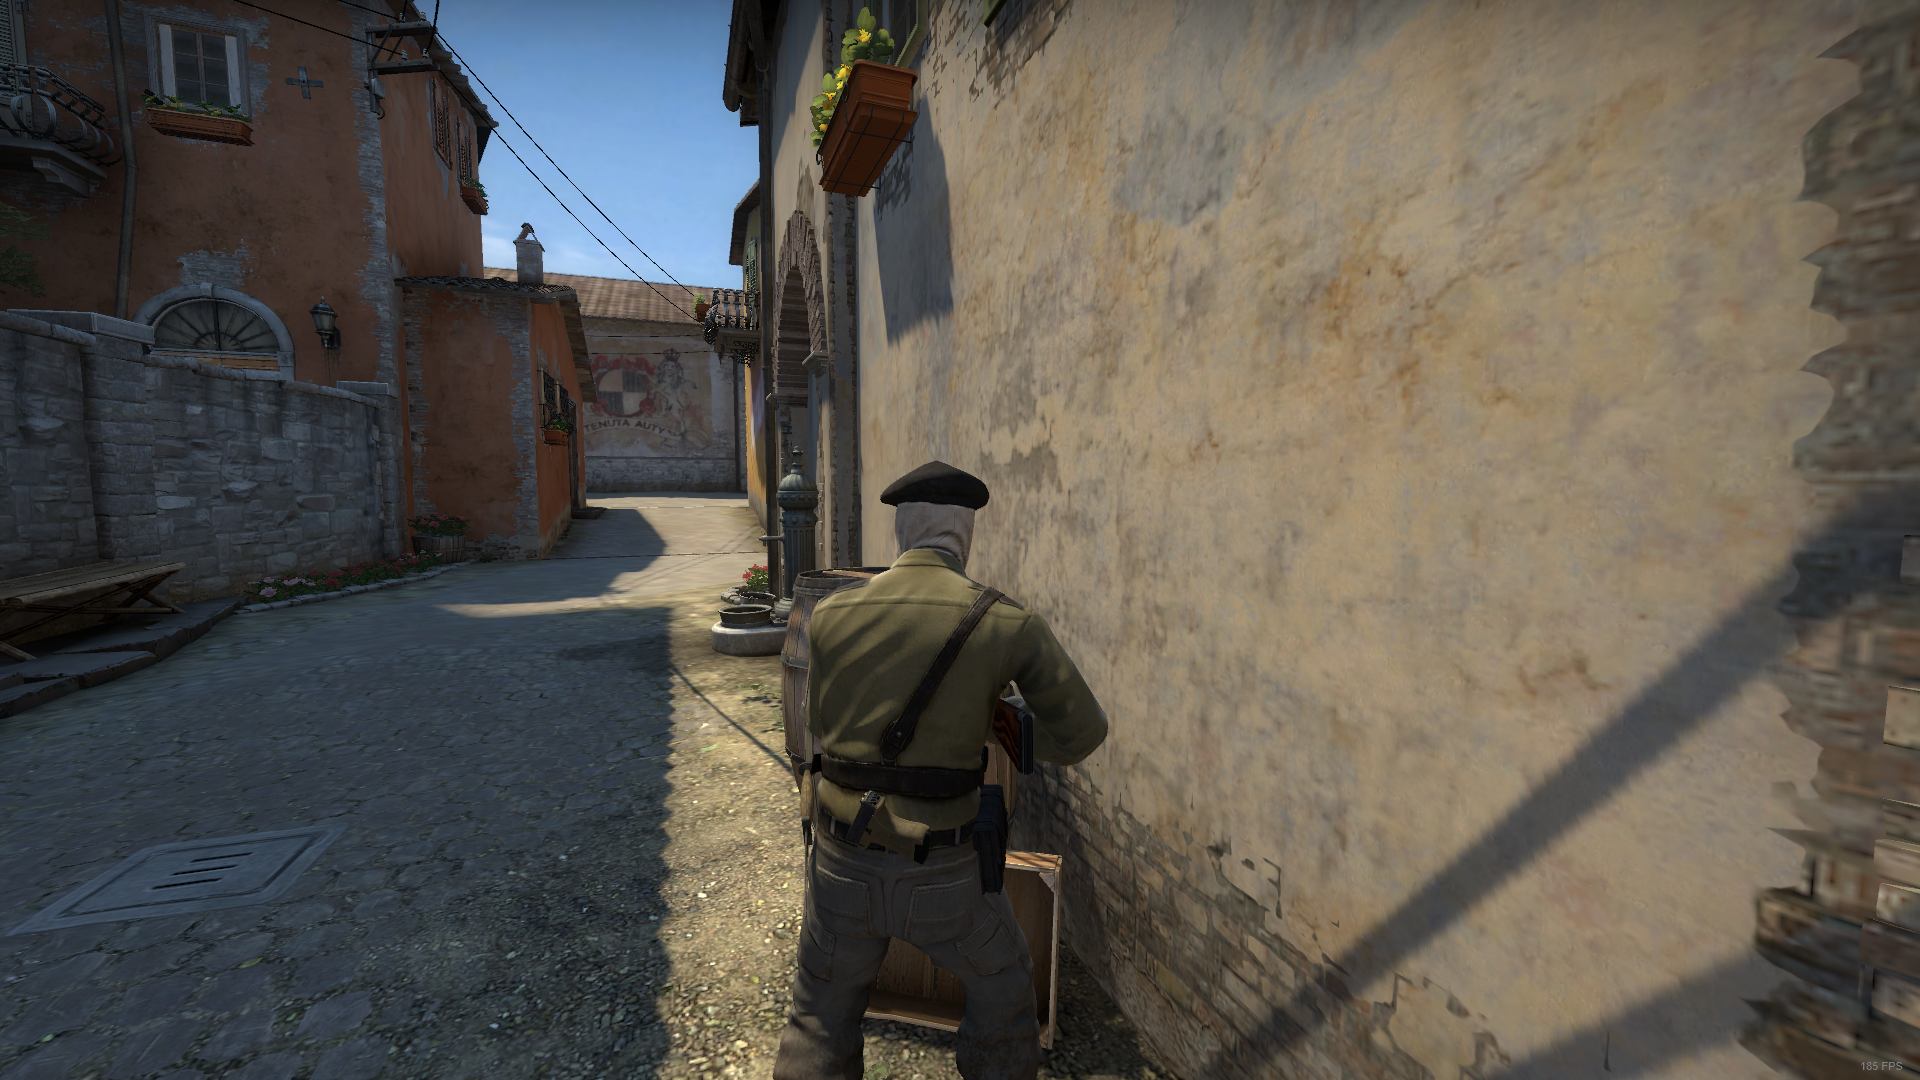t: (764, 460, 1110, 1080)
